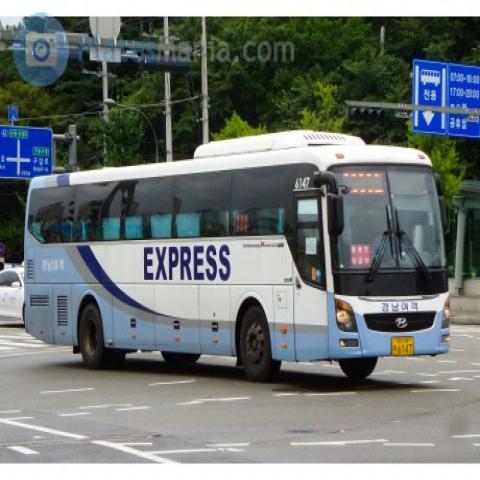LP: (388, 330, 419, 358)
